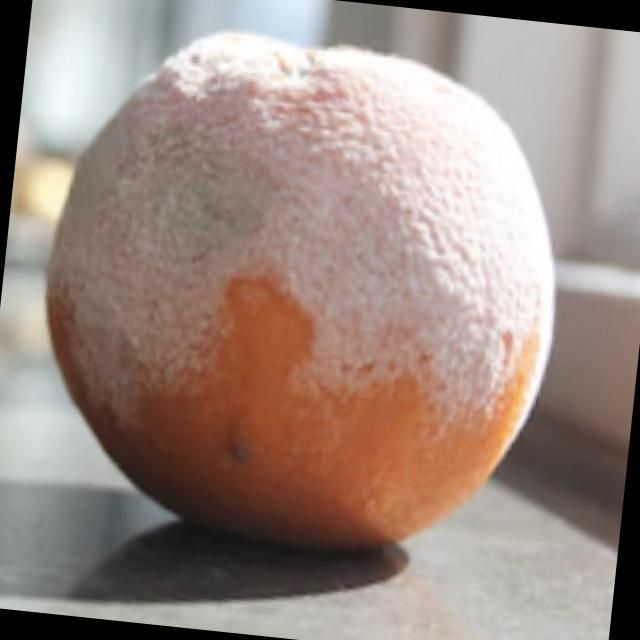rotten-orange: (20, 17, 582, 585)
